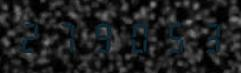five: (154, 20, 187, 53)
nine: (86, 20, 119, 53)
seven: (51, 20, 84, 53)
three: (188, 20, 221, 53)
two: (17, 20, 50, 53)
zero: (120, 20, 153, 53)
